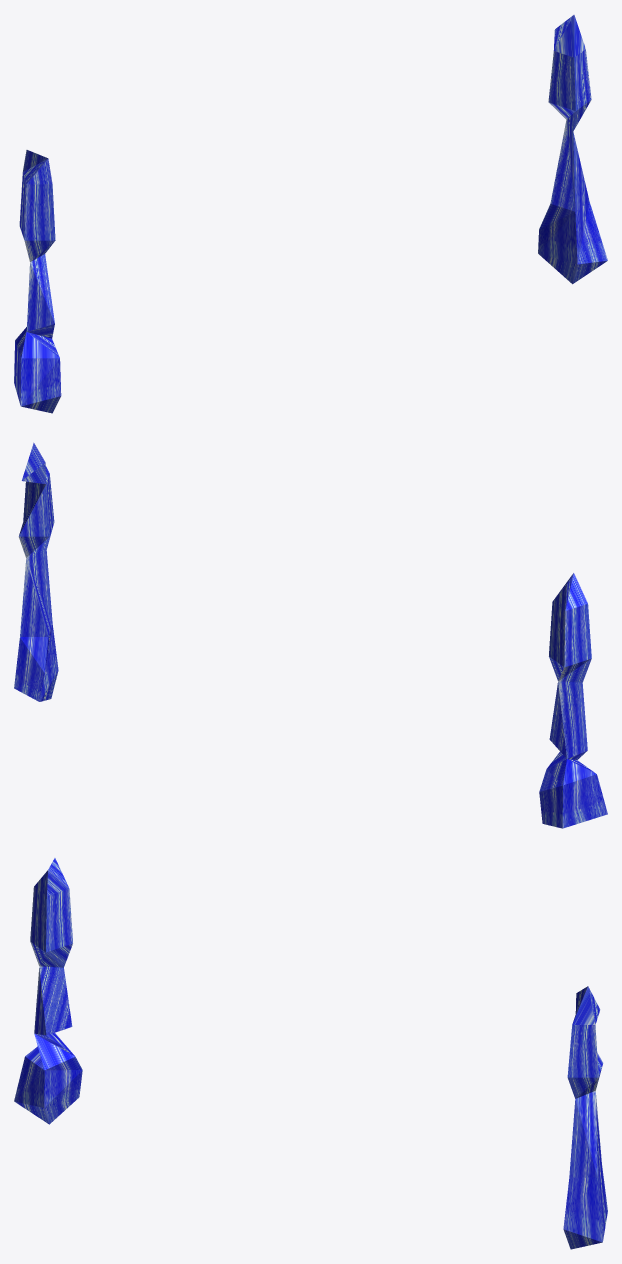
3 views of the same model, one above another, from view 1: azimuth 30°, elevation 25°; view 2: azimuth 150°, elevation 25°; view 3: azimuth 330°, elevation 25° (orthographic).
Bounding box in the file's own units: 0.2904 × 0.1231 × 0.0281.
Materials: 1 (1 with a texture image).
